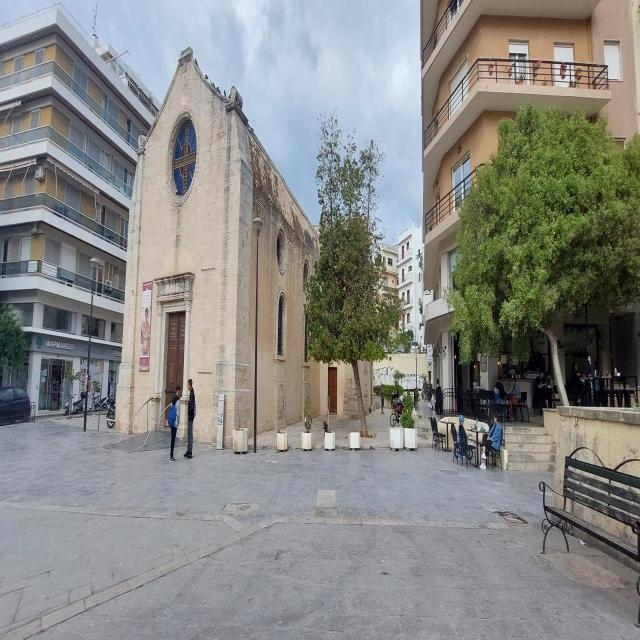Agia Aikaterini: (109, 43, 327, 463)
